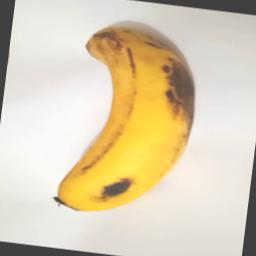Banana Unripe: (50, 20, 204, 226)
